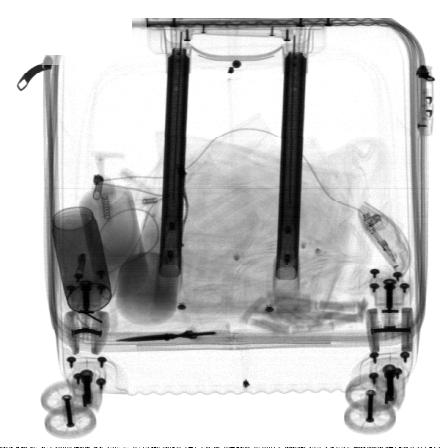Scissors: (117, 319, 228, 344)
